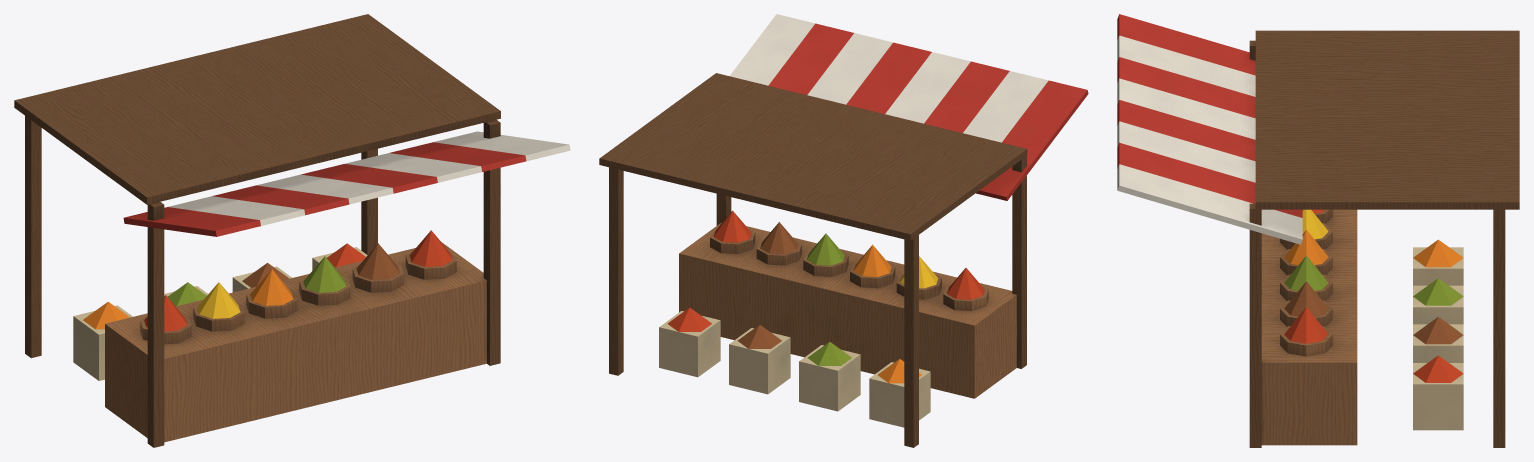
The model's file is basar_kryddor_tex.glb.
3 renders of one model, left to right at view 1: azimuth 30°, elevation 25°; view 2: azimuth 150°, elevation 25°; view 3: azimuth 270°, elevation 25°, orthographic. The views are drawn at different scales.
Parts seen in each view (by area): view 1: basar_kryddor; view 2: basar_kryddor; view 3: basar_kryddor.
Part boxes in pixels (x1=…): basar_kryddor: x1=14, y1=14, x2=570, y2=447; basar_kryddor: x1=599, y1=14, x2=1088, y2=447; basar_kryddor: x1=1117, y1=14, x2=1519, y2=447.
Bounding box in the file's own units: 4 × 2.87 × 3.96.
10 materials, 5 textured.
